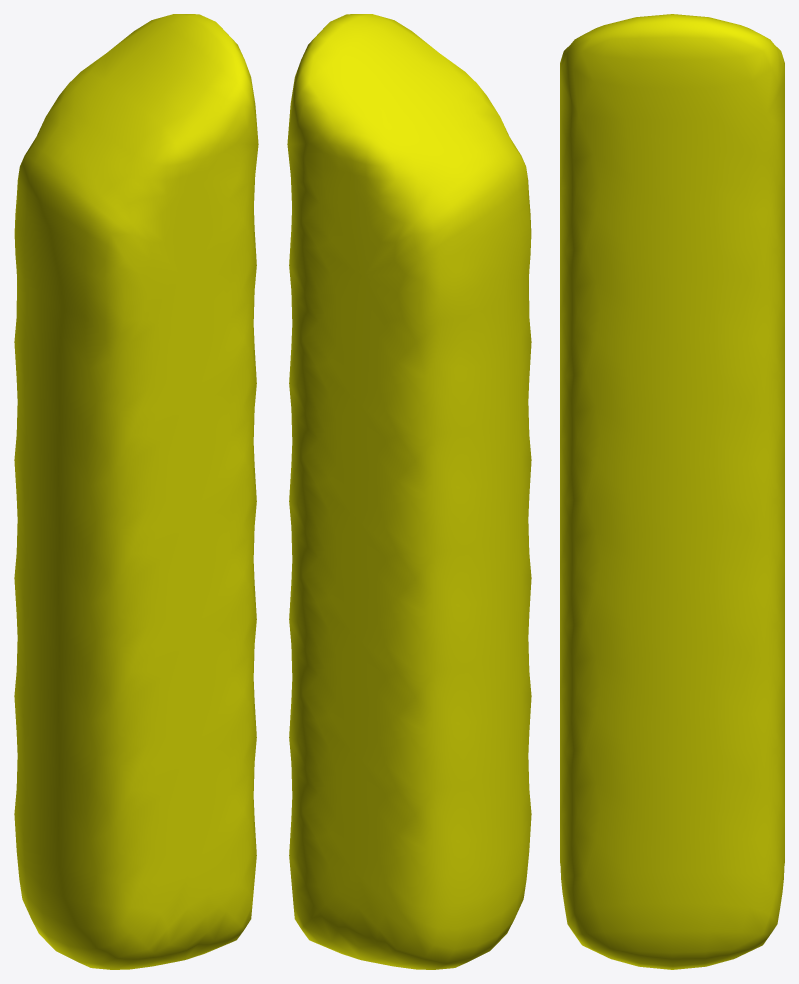
3 renders of one model, left to right at view 1: azimuth 30°, elevation 25°; view 2: azimuth 150°, elevation 25°; view 3: azimuth 270°, elevation 25°, orthographic. The views are drawn at different scales.
Parts seen in each view (by area): view 1: num_1; view 2: num_1; view 3: num_1.
Boxes of the visible parts, x1=… form: num_1: x1=14, y1=14, x2=258, y2=969; num_1: x1=287, y1=14, x2=531, y2=969; num_1: x1=560, y1=14, x2=784, y2=969.
Size of the model in its own units: 1.71 by 7.87 by 1.67.
